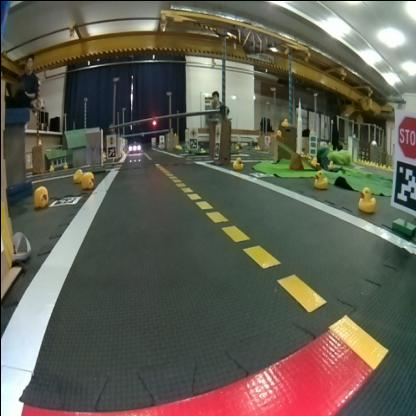Duckie: (356, 186, 375, 212), (32, 184, 46, 208), (312, 168, 326, 186), (81, 171, 93, 188), (231, 156, 242, 168), (73, 168, 80, 181), (282, 117, 288, 125), (48, 163, 53, 169)
Duckiebot: (128, 142, 140, 152)
QR code: (391, 158, 415, 211), (50, 194, 80, 204), (212, 142, 218, 156), (189, 136, 195, 148), (106, 146, 113, 156)
Signal sign: (106, 134, 114, 146)
Stop sign: (394, 112, 415, 156)
Traffic light: (150, 116, 155, 124)
